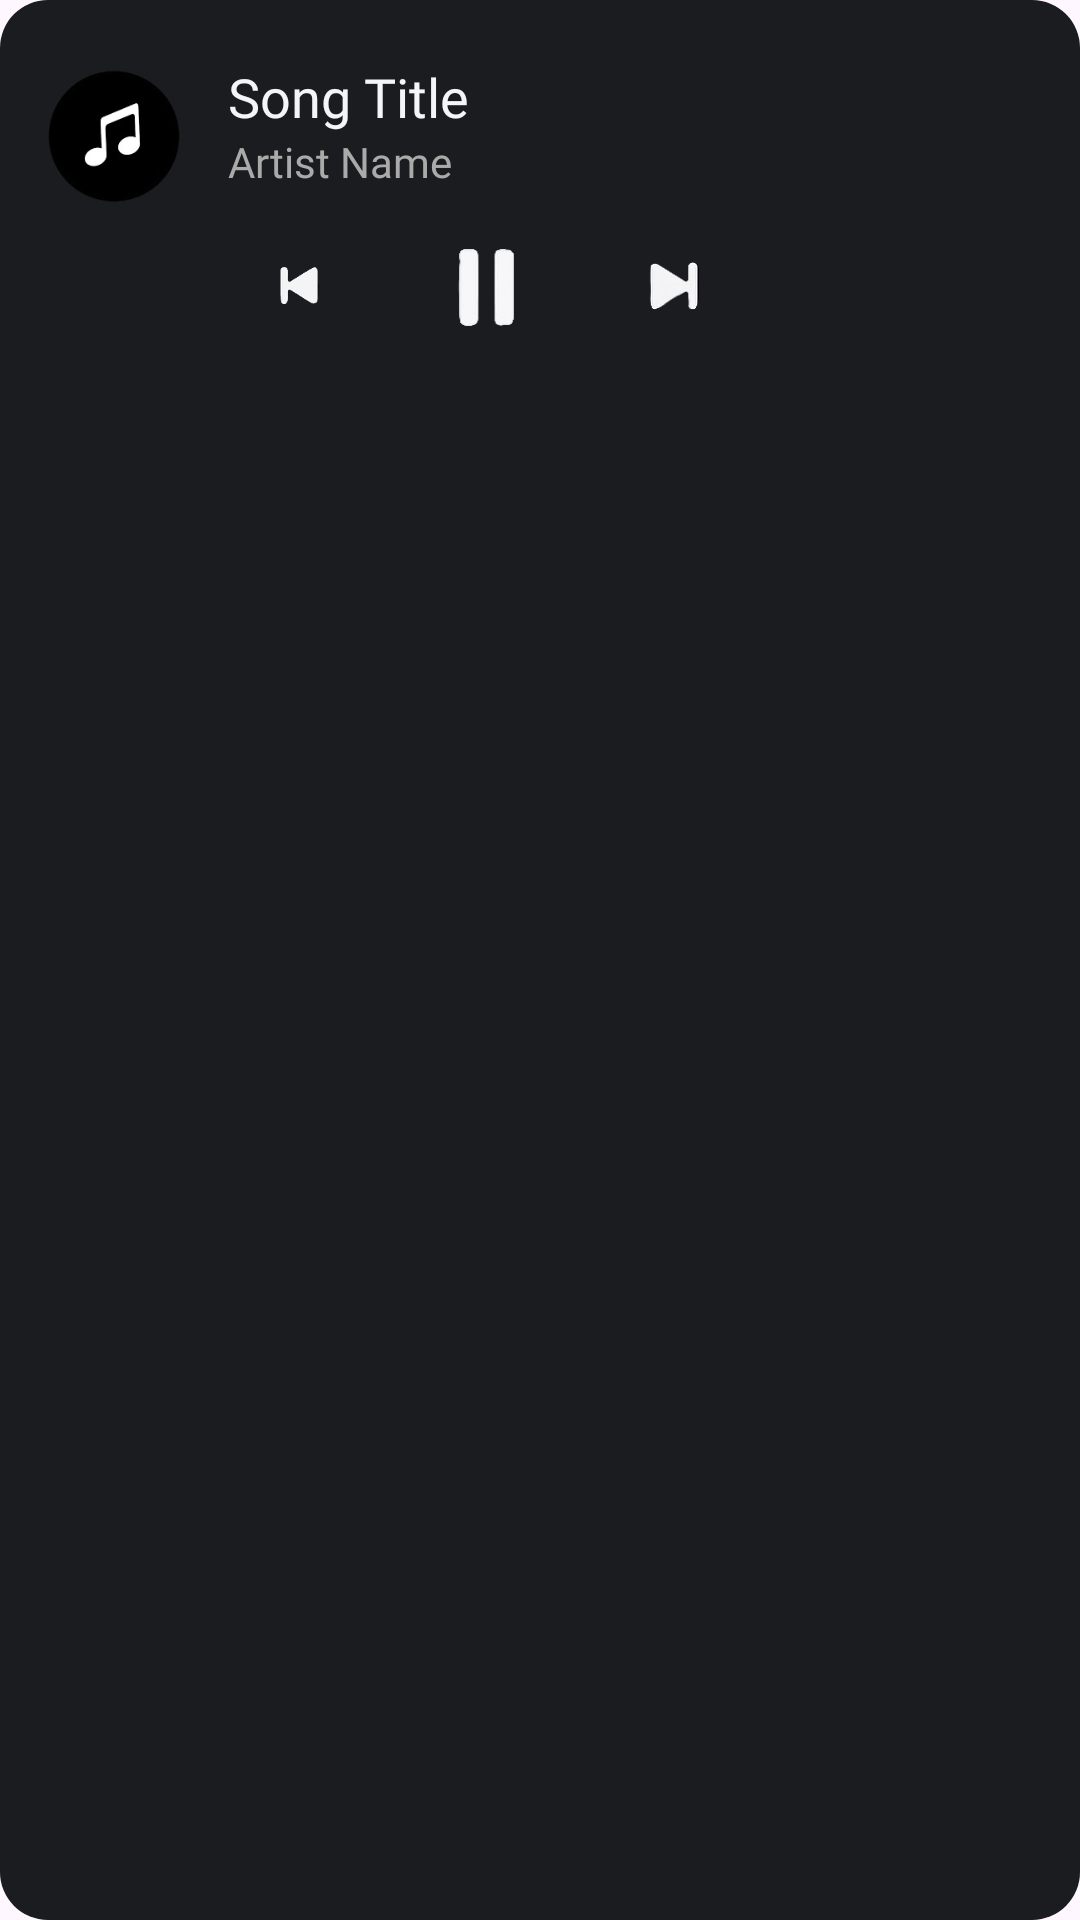

Icon click points for this 1080 x 1920 phone screenshot, format point (x, y):
defaultimg: point (114, 136)
next: point (674, 285)
pause: point (486, 287)
previous: point (299, 285)
